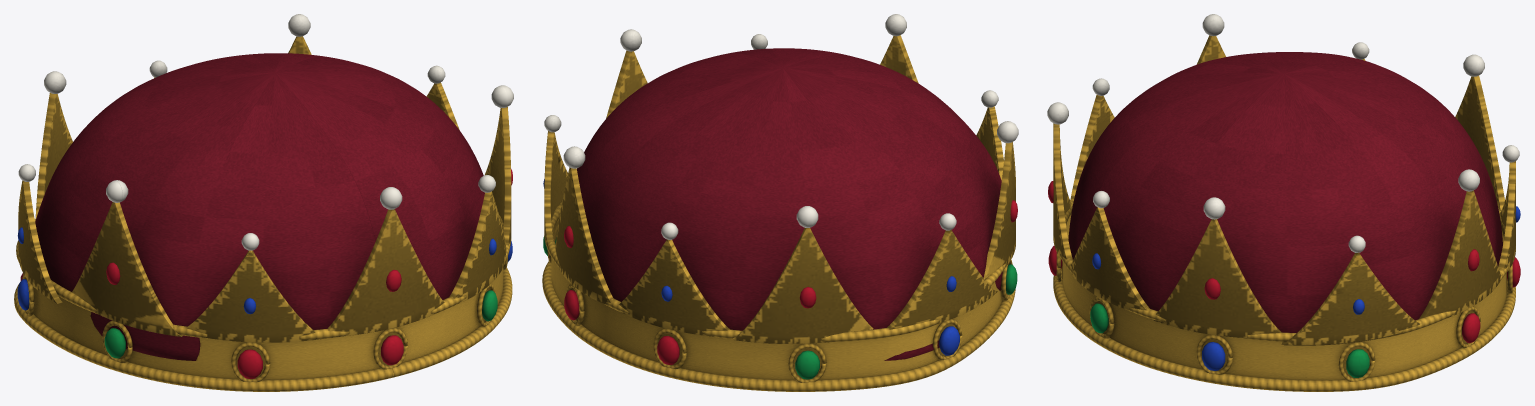
File: crown_male_hi.glb
3 views of the same model, side by side, from view 1: azimuth 30°, elevation 25°; view 2: azimuth 150°, elevation 25°; view 3: azimuth 270°, elevation 25° (orthographic). The views are drawn at different scales.
Parts seen in each view (by area): view 1: crown_hi; view 2: crown_hi; view 3: crown_hi.
Boxes of the visible parts, <box> form: crown_hi: <box>14,14,513,391</box>; crown_hi: <box>542,14,1018,391</box>; crown_hi: <box>1047,14,1520,391</box>.
Size of the model in its own units: 0.6096 by 0.3135 by 0.595.
Materials: 1 (1 with a texture image).
